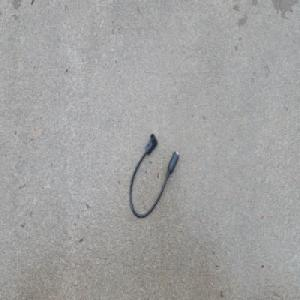Wire: (129, 132, 180, 219)
